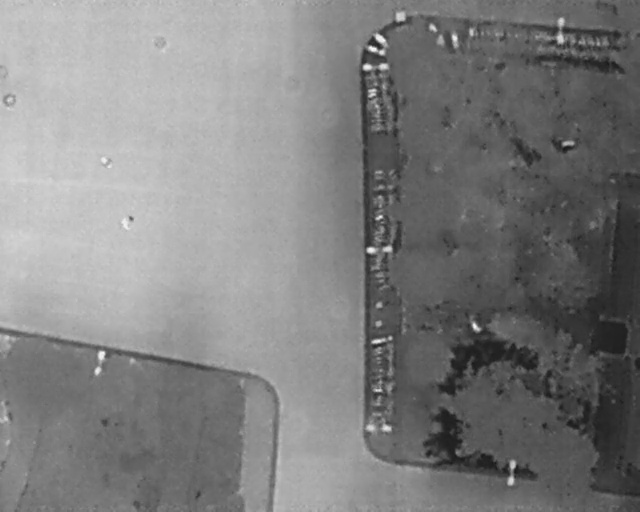Bicycle: (368, 28, 392, 50), (361, 42, 388, 58), (362, 62, 394, 72)
Person: (122, 214, 136, 232)
